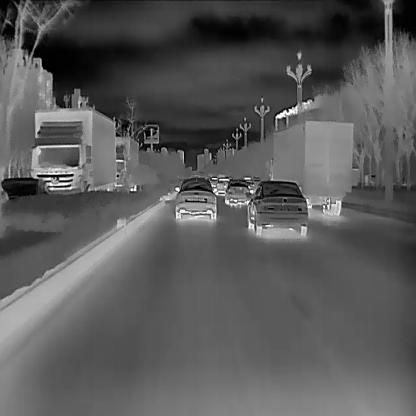car: (245, 180, 308, 234), (173, 175, 216, 220), (224, 178, 249, 205)
truck: (270, 121, 352, 214), (31, 109, 115, 196), (109, 135, 135, 192)
